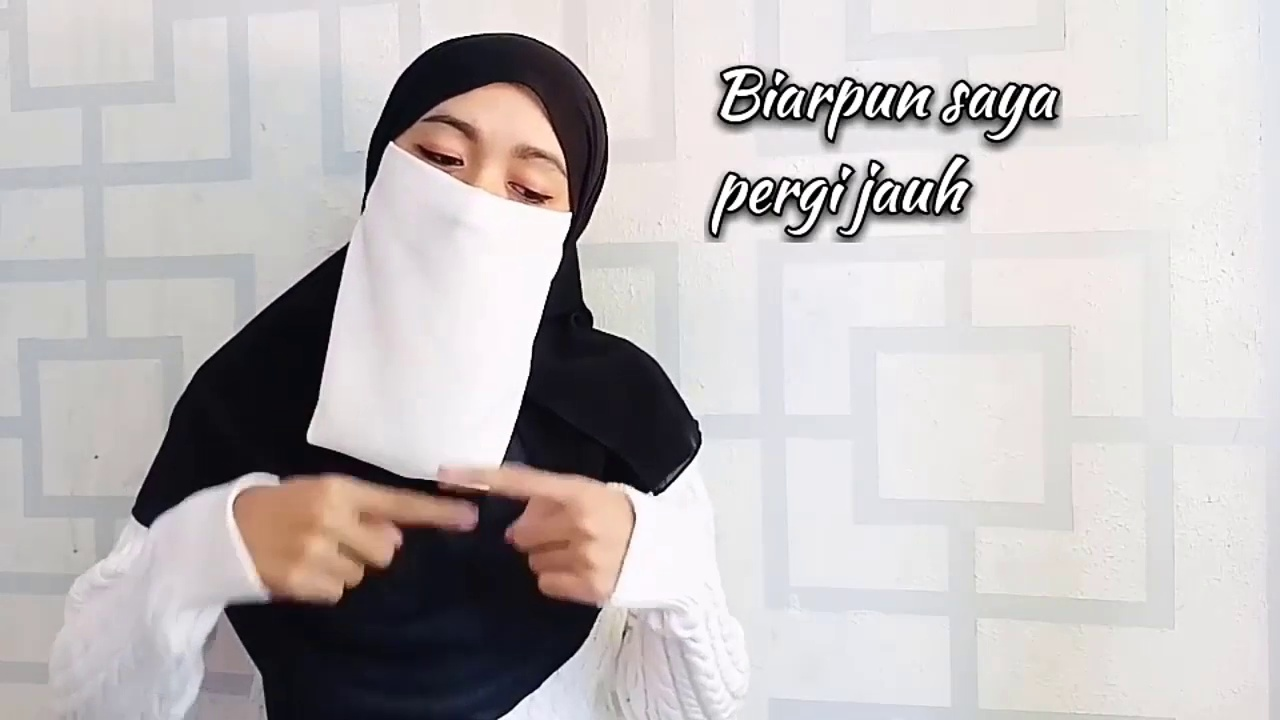PERGI: (153, 451, 710, 652)
